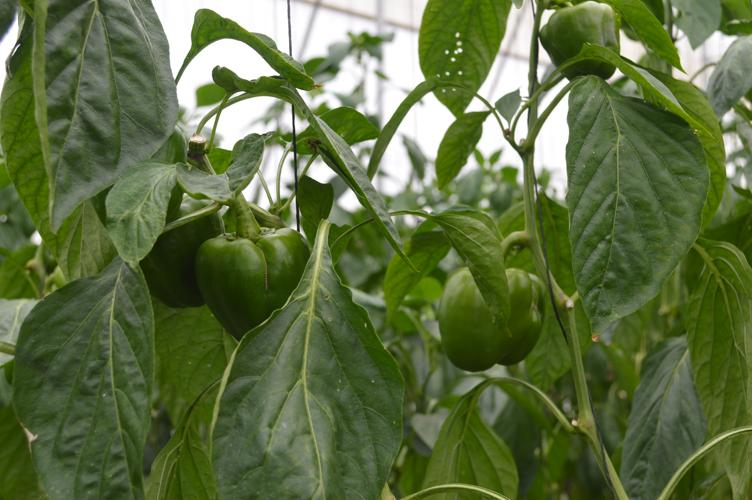BellPepper: (427, 248, 549, 375), (194, 218, 316, 328), (124, 180, 209, 317), (543, 2, 627, 84)
